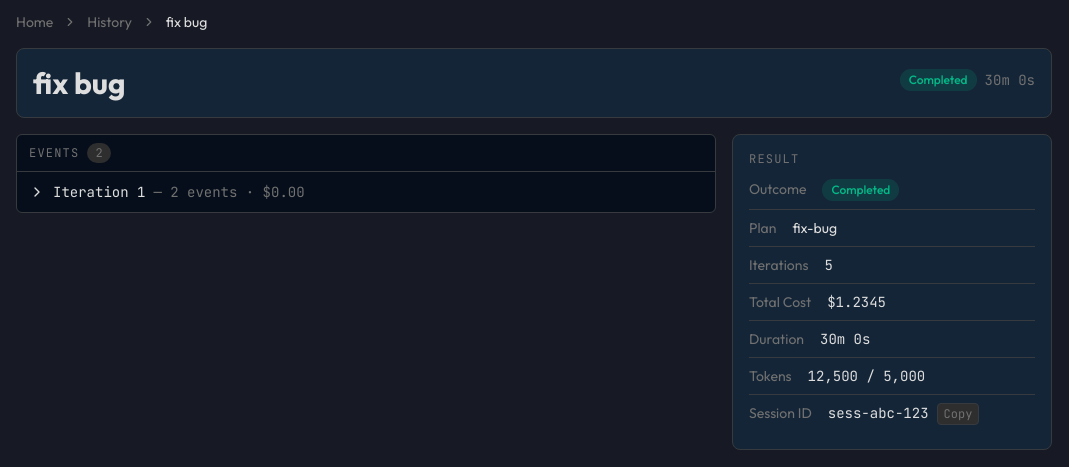
Test: RunDetail › copy session ID › after clicking, shows "Copied!" text
What coordinates should you click on to do the following:
click the button "Copy"
I would click on:
 (958, 414)
Its box is top-left (937, 403), bottom-right (979, 425).
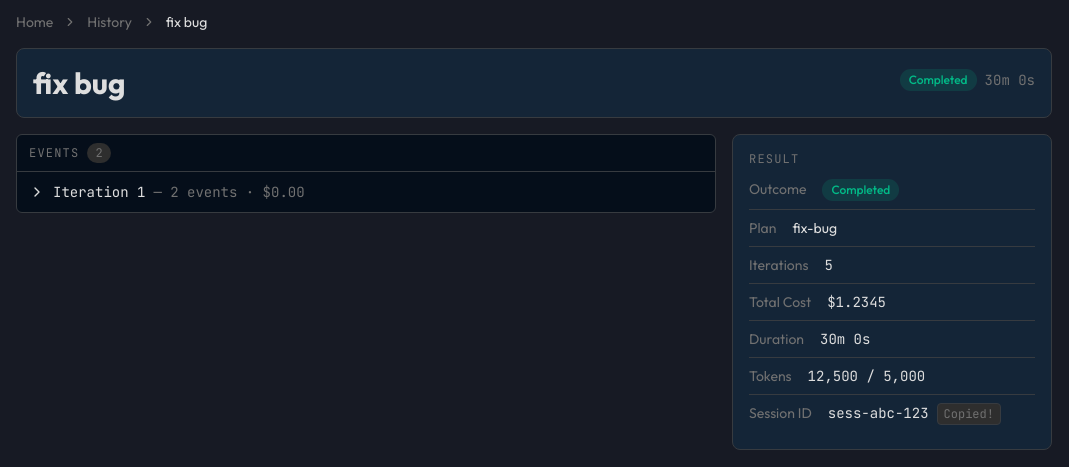
Expected: the button "Copied!" is shown, top-left (937, 403), bottom-right (1001, 425)
